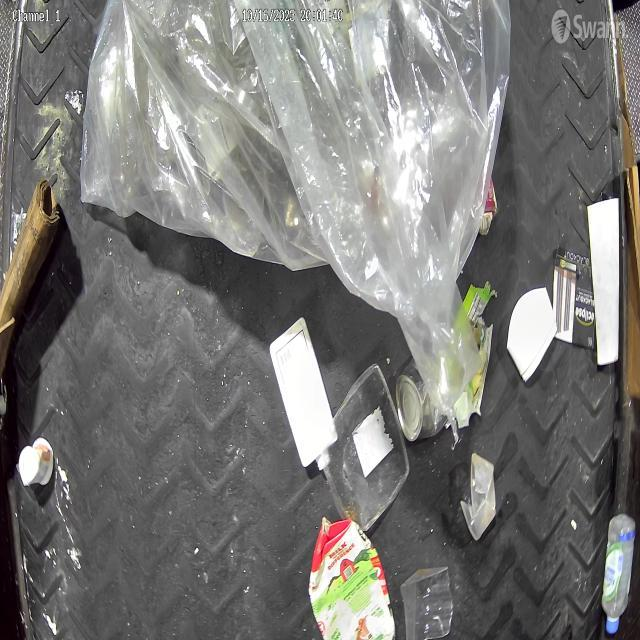can: (395, 358, 452, 440)
milk_jug: (268, 318, 340, 474)
non_white_jug: (310, 510, 398, 640)
plastic_bottle: (600, 513, 636, 635)
